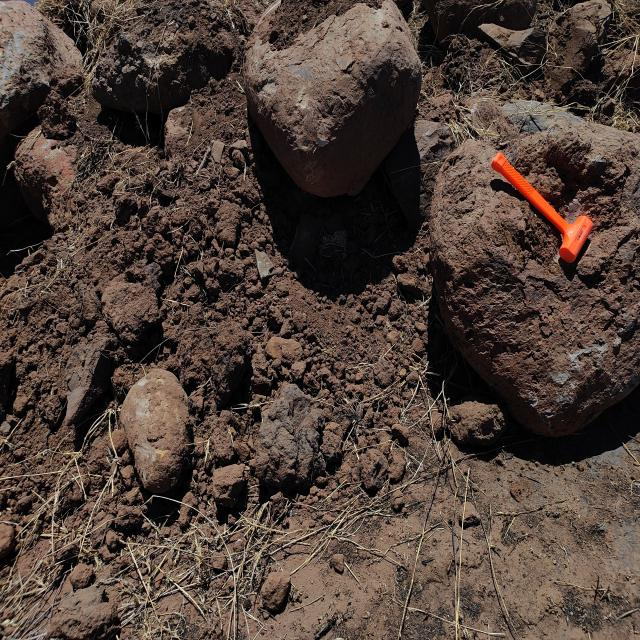Orange_hammer: (490, 149, 593, 265)
